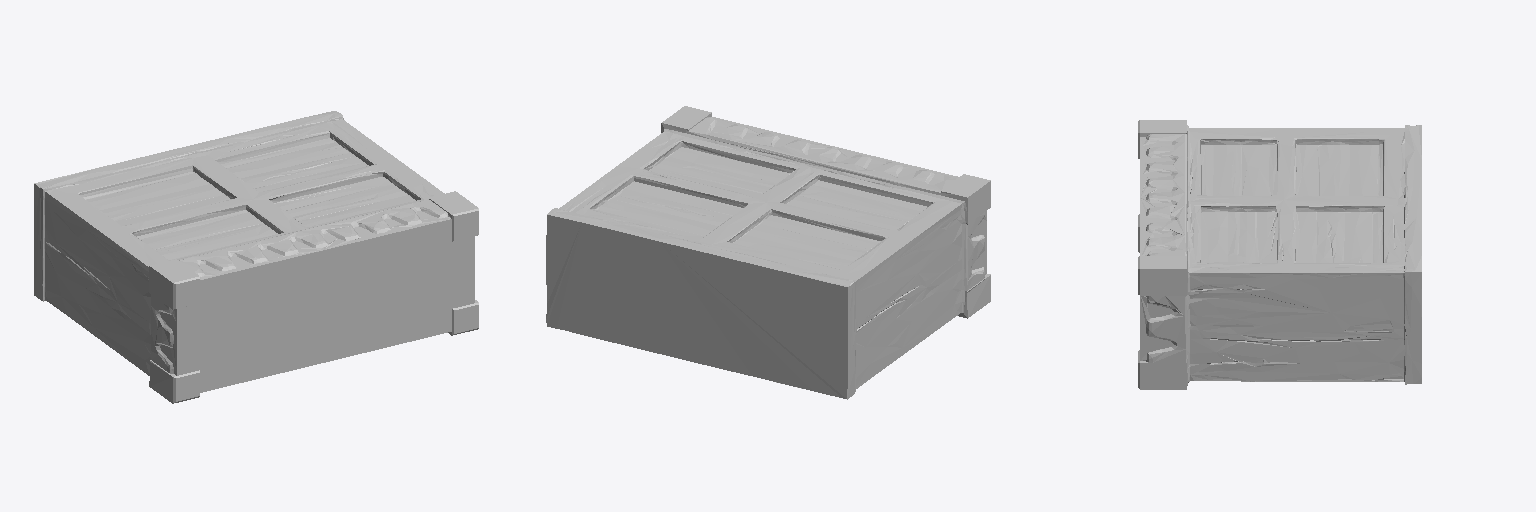
File: cupboard.obj
3 views of the same model, side by side, from view 1: azimuth 30°, elevation 25°; view 2: azimuth 150°, elevation 25°; view 3: azimuth 270°, elevation 25° (orthographic).
Parts seen in each view (by area): view 1: mmGroup0; view 2: mmGroup0; view 3: mmGroup0.
Boxes of the visible parts, <box> form: mmGroup0: <box>34,111,478,403</box>; mmGroup0: <box>546,106,990,399</box>; mmGroup0: <box>1138,120,1421,389</box>.
Bounding box in the file's own units: 60.88 × 23.41 × 48.93.